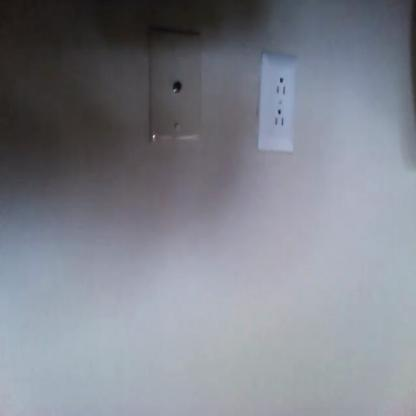OUTLET: (262, 55, 295, 151)
